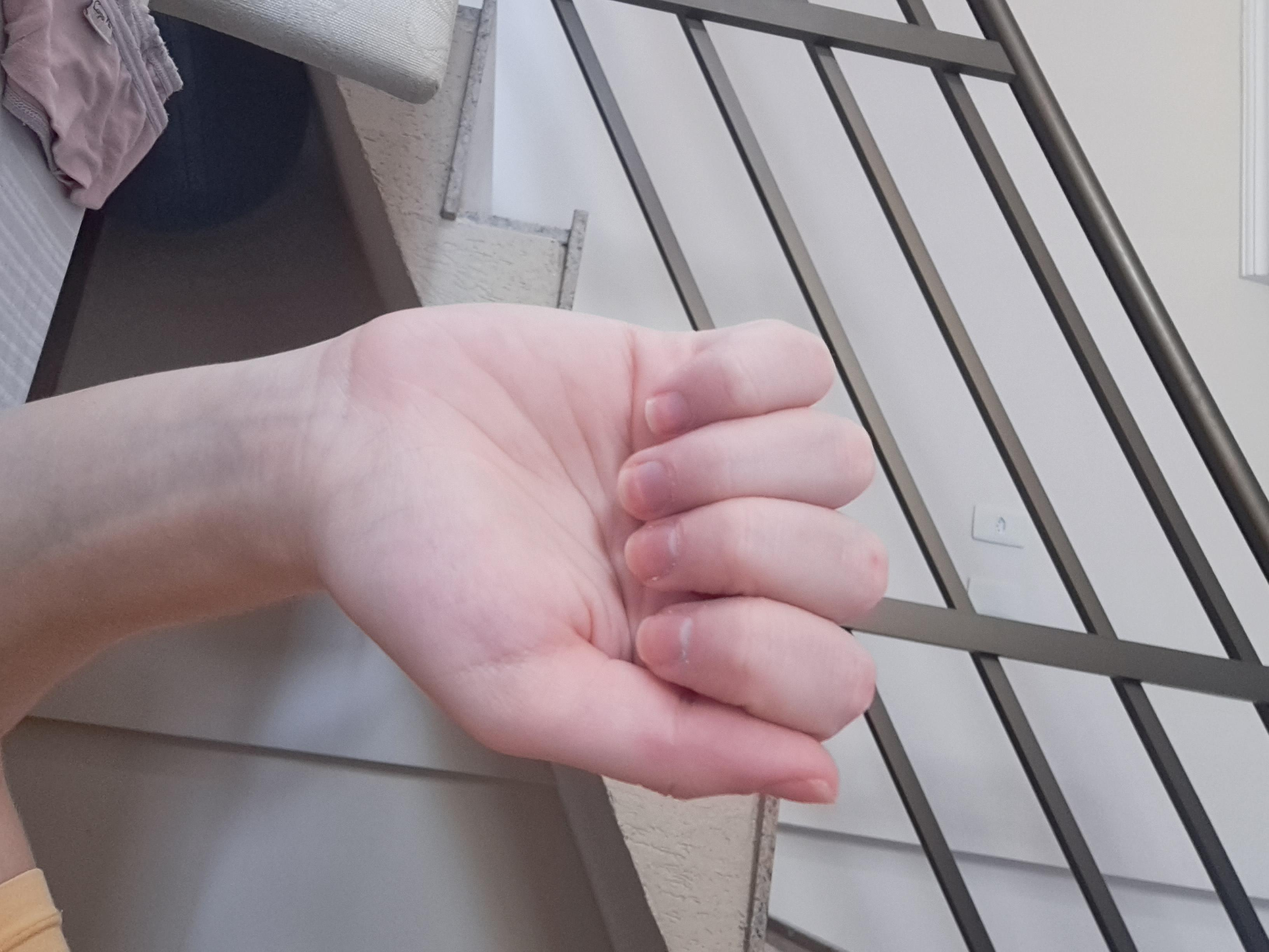A: (384, 280, 1099, 694)
